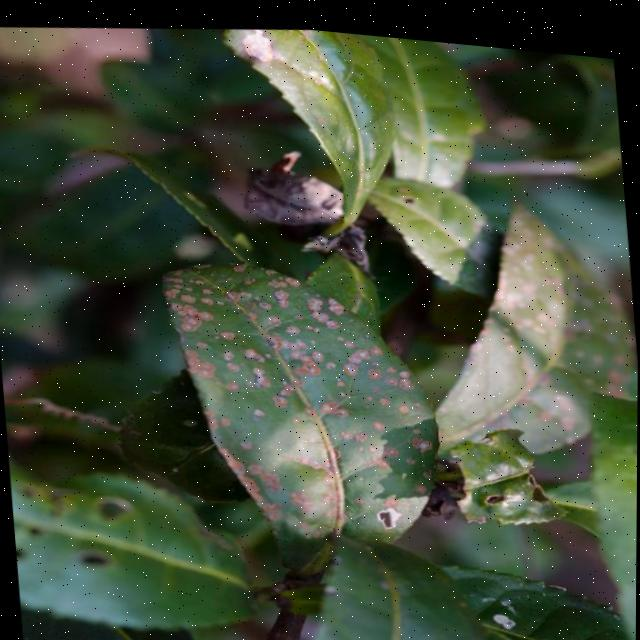Tea algae leaf spot: (193, 252, 423, 534)
